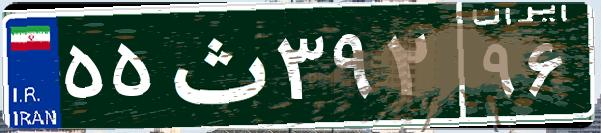2: (385, 28, 445, 110)
3: (273, 28, 330, 110)
5: (57, 26, 110, 107), (110, 28, 158, 105)
6: (525, 38, 570, 115)
9: (330, 28, 385, 110), (475, 38, 525, 113)
ث: (158, 15, 273, 115)
